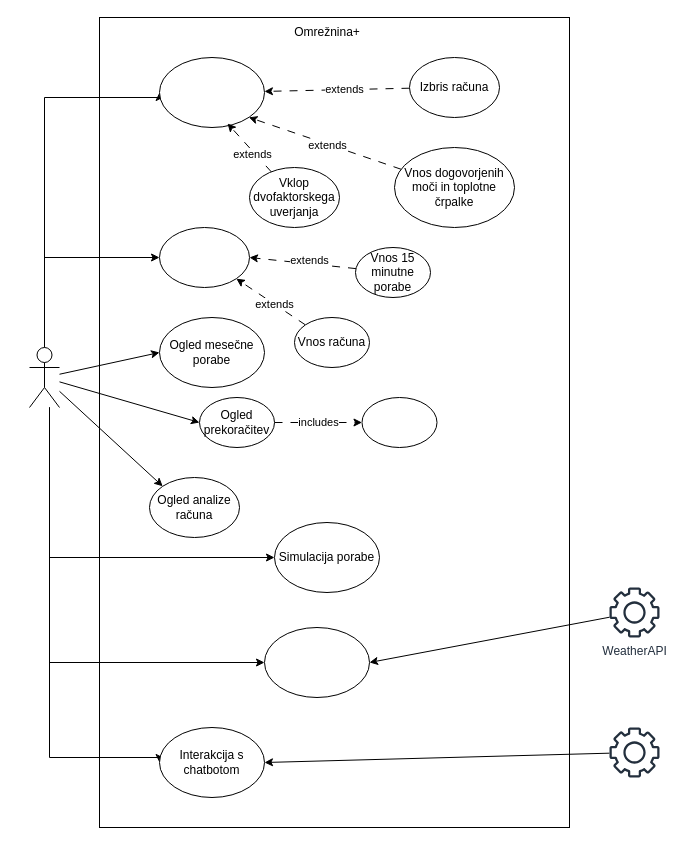
The diagram is 684 pixels wide and 845 high, and some of its shapes have lost their labels. The centre of each missing label's shape, as x and y in pixels:
"Izračun optimuma" goes at (399,422).
"Ope nAPI" goes at (634,752).
"Predikcija prekoračitve v naslednjem mesecu" goes at (317,662).
"Uporabnik" goes at (44,377).
"Upravljanje uporabniškega računa" goes at (211,92).
"Vnos mesečne porabe" goes at (204,257).
